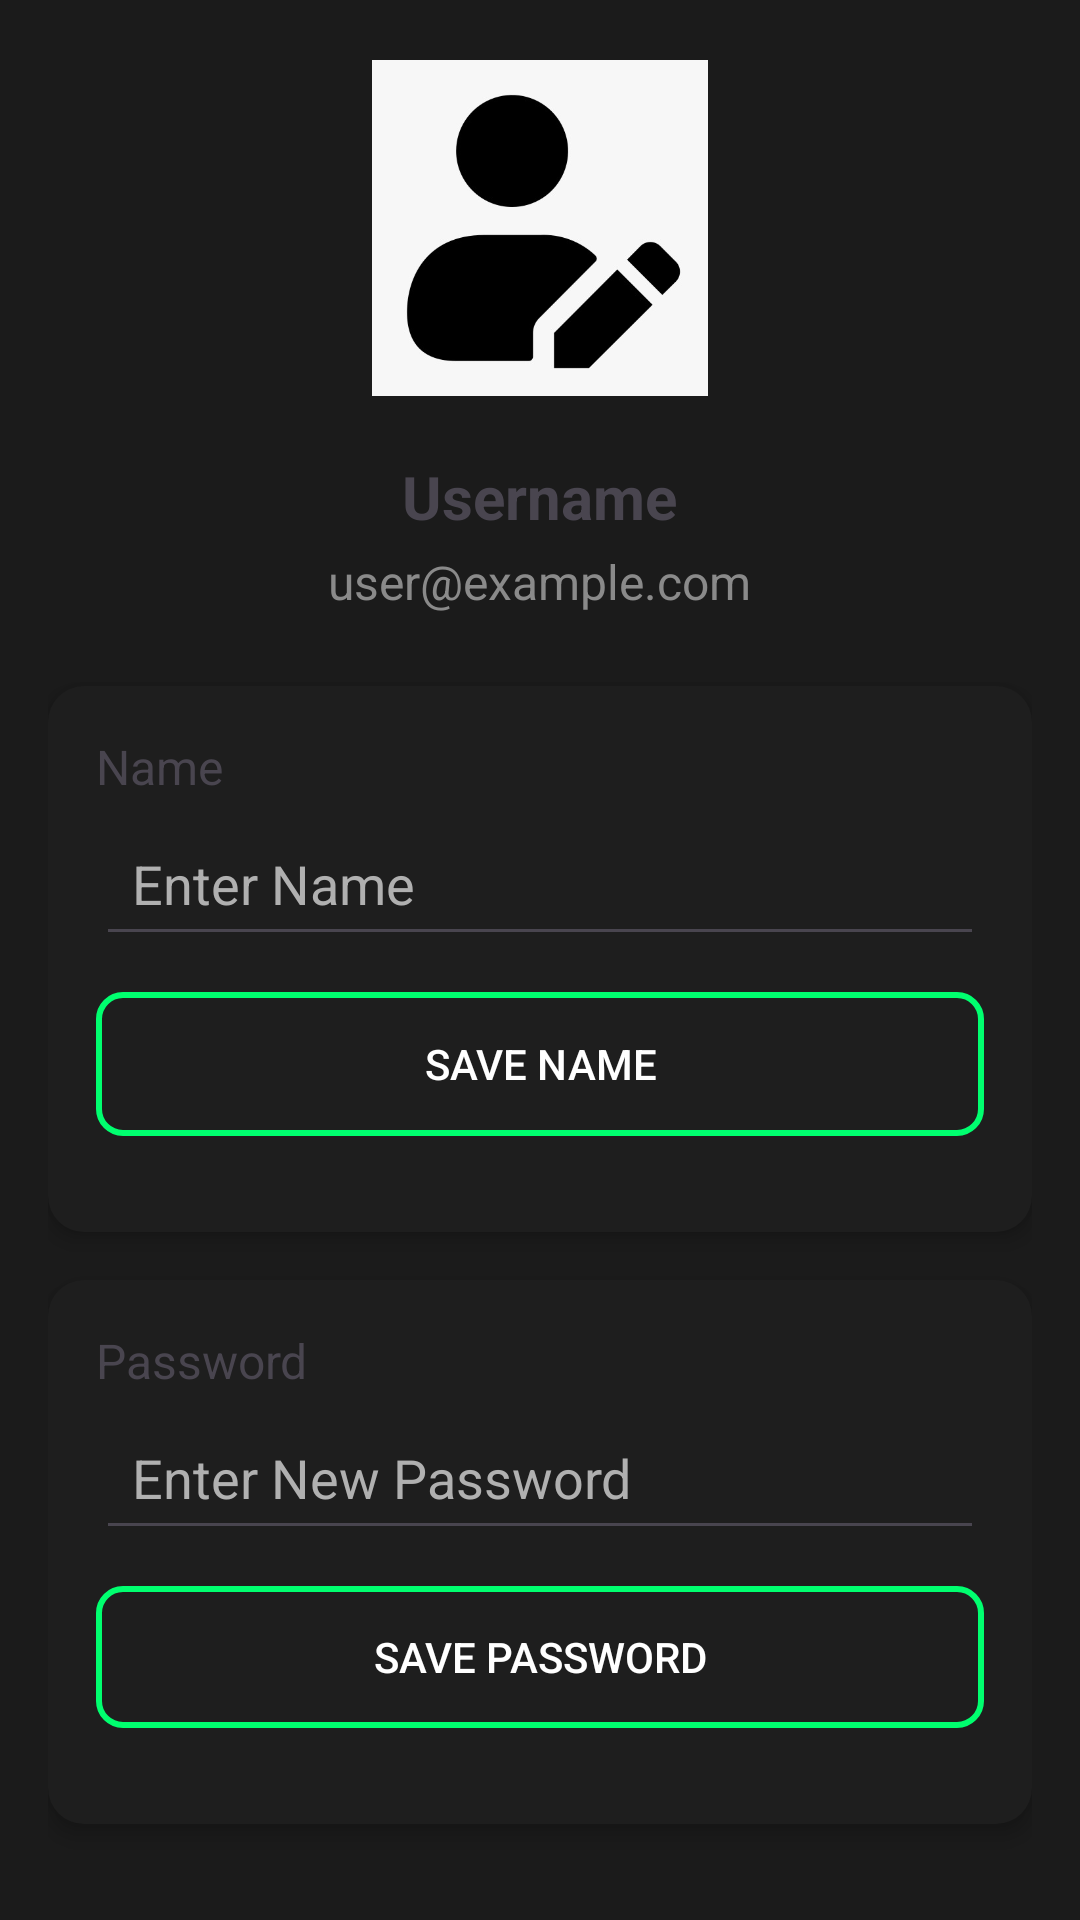

Icon bounding boxes for this 1080 × 1920 phone screenshot, format (x1, y1, x2, y2):
Profile Picture: (372, 60, 708, 396)
